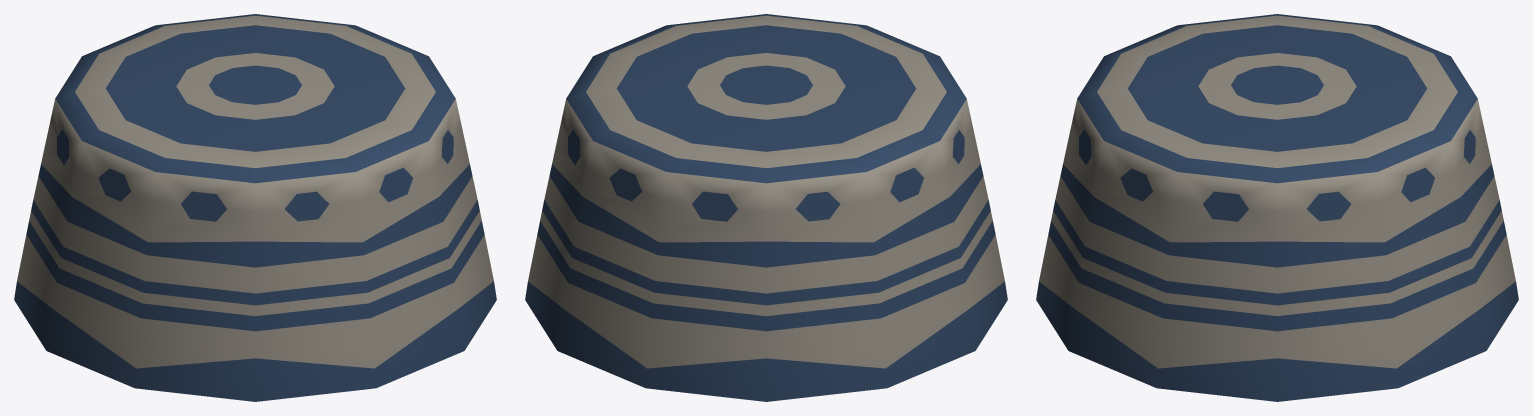
File: human-clothing-skullcap_v1.fbx
The picture shows the model from 3 angles, left to right: view 1: azimuth 30°, elevation 25°; view 2: azimuth 150°, elevation 25°; view 3: azimuth 270°, elevation 25°; orthographic projection.
Visible parts, largest first — view 1: Skullcap; view 2: Skullcap; view 3: Skullcap.
Boxes of the visible parts, left/top/right/bottom form: Skullcap: left=14, top=14, right=496, bottom=401; Skullcap: left=525, top=14, right=1007, bottom=401; Skullcap: left=1036, top=14, right=1518, bottom=401.
Size of the model in its own units: 0.2 by 0.0982 by 0.2.
